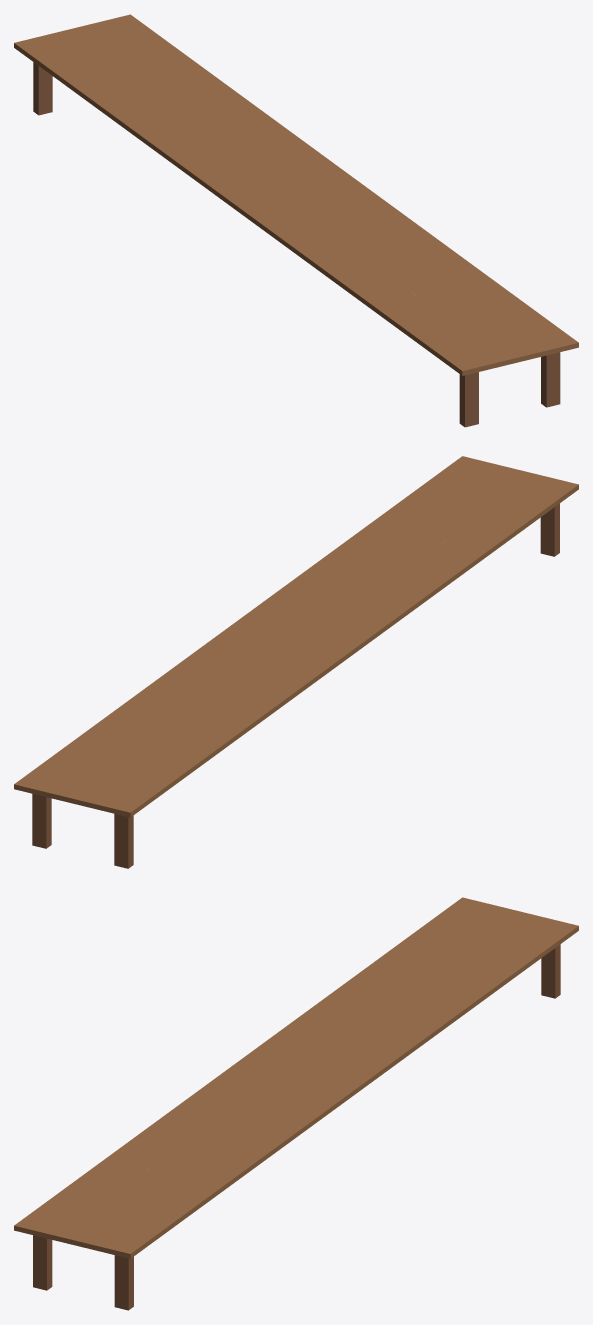
The model's file is SM_Table_1.fbx.
The picture shows the model from 3 angles, top to bottom: view 1: azimuth 30°, elevation 25°; view 2: azimuth 150°, elevation 25°; view 3: azimuth 330°, elevation 25°; orthographic projection.
Parts seen in each view (by area): view 1: Table_Leg4; view 2: Table_Leg4; view 3: Table_Leg4.
Boxes of the visible parts, x1,y1,x2,y2 form: Table_Leg4: (14,14,578,427); Table_Leg4: (14,456,578,868); Table_Leg4: (14,897,578,1310).
Bounding box in the file's own units: 150 × 80 × 1000.
